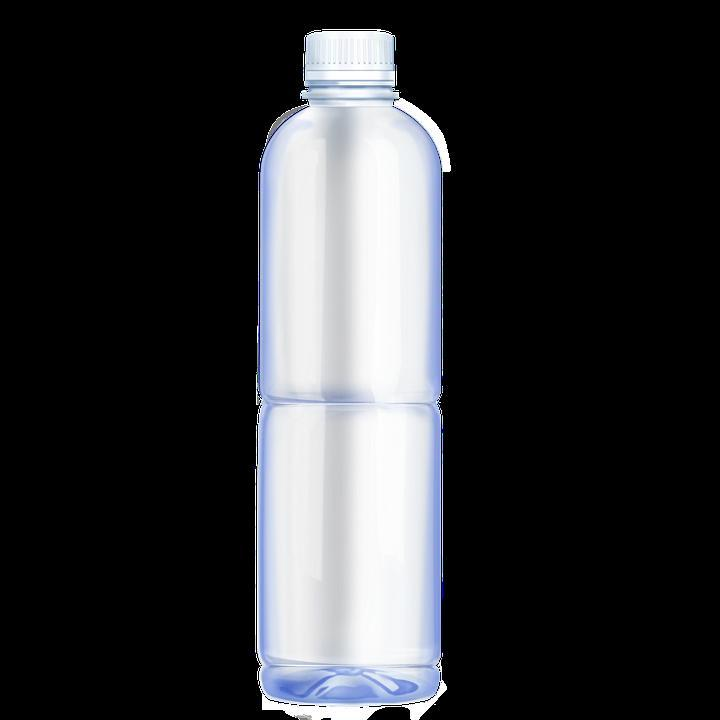bottle: (248, 25, 448, 708)
